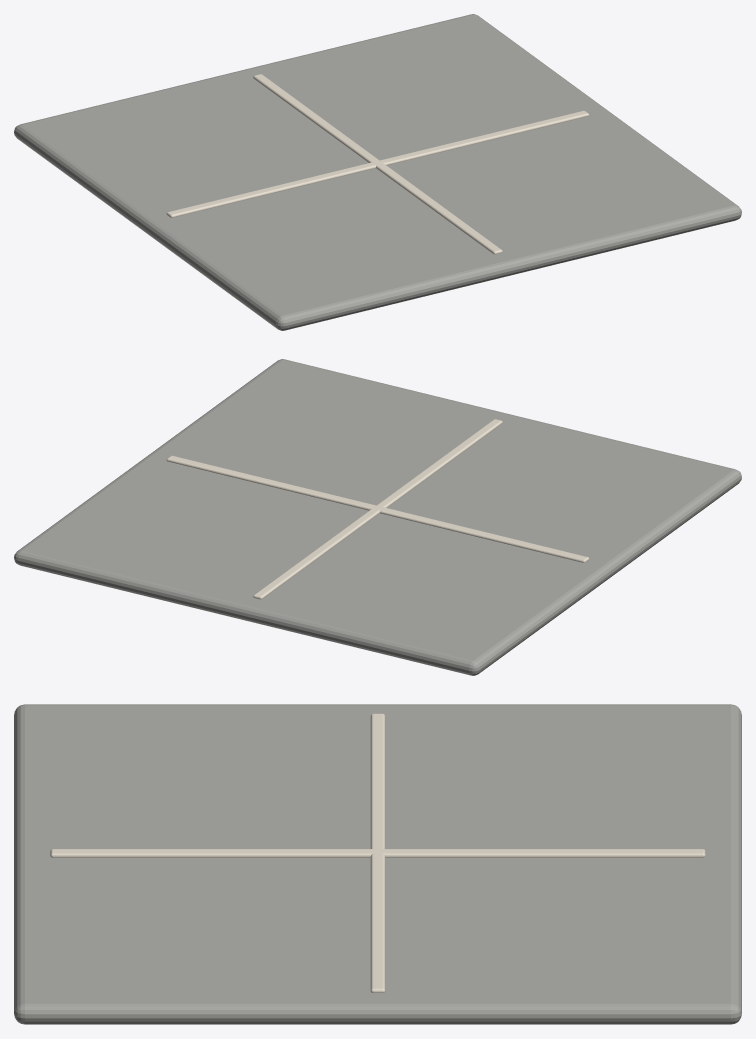
File: plaza_tile_4m_lod0_v2.glb
The picture shows the model from 3 angles, top to bottom: view 1: azimuth 30°, elevation 25°; view 2: azimuth 150°, elevation 25°; view 3: azimuth 270°, elevation 25°; orthographic projection. The views are drawn at different scales.
Parts seen in each view (by area): view 1: LOD0_PLAZA_TILE_4M_Tile, LOD0_PLAZA_TILE_4M_InlayX, LOD0_PLAZA_TILE_4M_InlayY; view 2: LOD0_PLAZA_TILE_4M_Tile, LOD0_PLAZA_TILE_4M_InlayX, LOD0_PLAZA_TILE_4M_InlayY; view 3: LOD0_PLAZA_TILE_4M_Tile, LOD0_PLAZA_TILE_4M_InlayY, LOD0_PLAZA_TILE_4M_InlayX.
Part boxes in pixels (x1,y1,x2,y2): LOD0_PLAZA_TILE_4M_Tile: [14, 14, 741, 330]; LOD0_PLAZA_TILE_4M_InlayX: [166, 110, 589, 217]; LOD0_PLAZA_TILE_4M_InlayY: [253, 74, 502, 254]; LOD0_PLAZA_TILE_4M_Tile: [14, 359, 741, 675]; LOD0_PLAZA_TILE_4M_InlayX: [166, 455, 589, 562]; LOD0_PLAZA_TILE_4M_InlayY: [253, 419, 502, 599]; LOD0_PLAZA_TILE_4M_Tile: [14, 704, 741, 1024]; LOD0_PLAZA_TILE_4M_InlayY: [50, 849, 705, 857]; LOD0_PLAZA_TILE_4M_InlayX: [370, 713, 385, 992].
Bounding box in the file's own units: 4 × 0.14 × 4.
